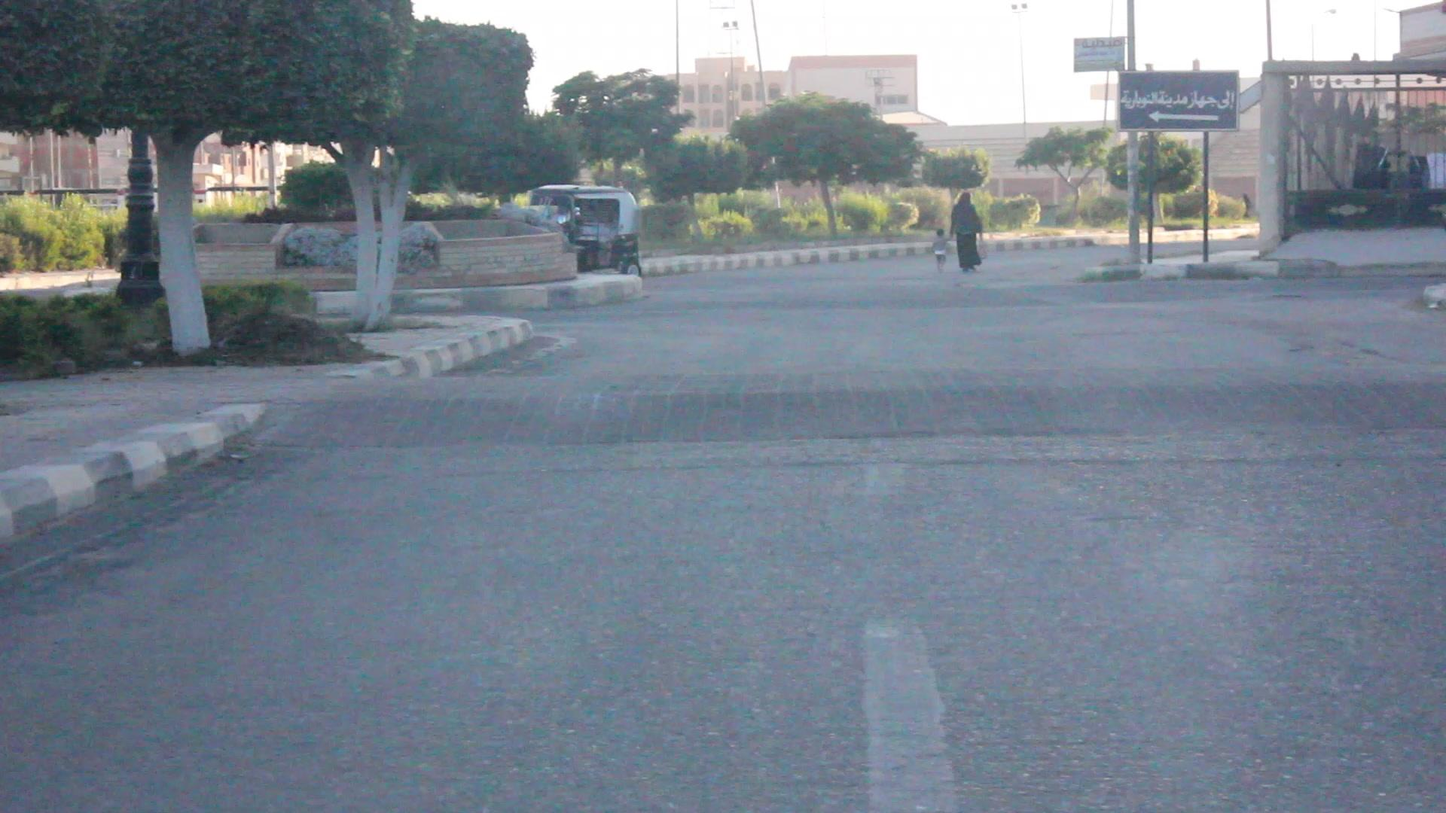Bump: (260, 361, 1444, 451)
